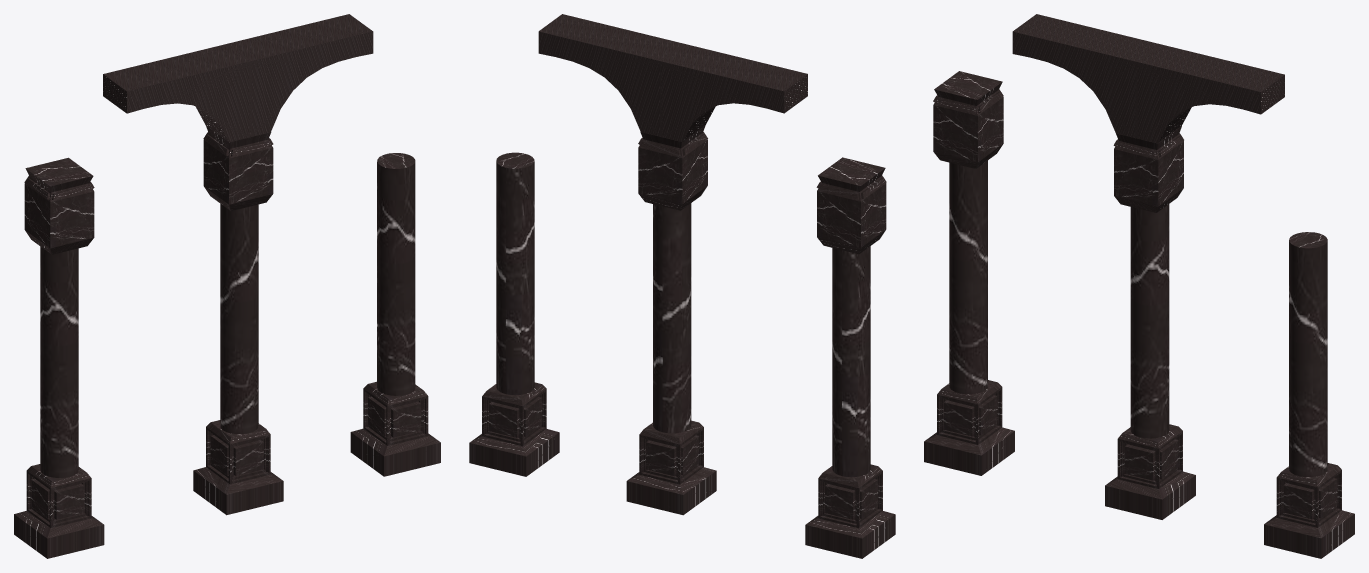
Rendered from colmn.DAE.
3 renders of one model, left to right at view 1: azimuth 30°, elevation 25°; view 2: azimuth 150°, elevation 25°; view 3: azimuth 330°, elevation 25°, orthographic.
Visible parts, largest first — view 1: Box004, Box003, Box005; view 2: Box004, Box003, Box005; view 3: Box004, Box003, Box005.
Boxes of the visible parts, x1,y1,x2,y2 form: Box004: (103, 14, 373, 515); Box003: (14, 157, 104, 558); Box005: (350, 153, 440, 476); Box004: (538, 14, 807, 515); Box003: (805, 157, 895, 558); Box005: (469, 152, 559, 476); Box004: (1012, 14, 1284, 519); Box003: (924, 71, 1014, 475); Box005: (1264, 232, 1354, 558).
Bounding box in the file's own units: 381 × 411 × 55.93.
